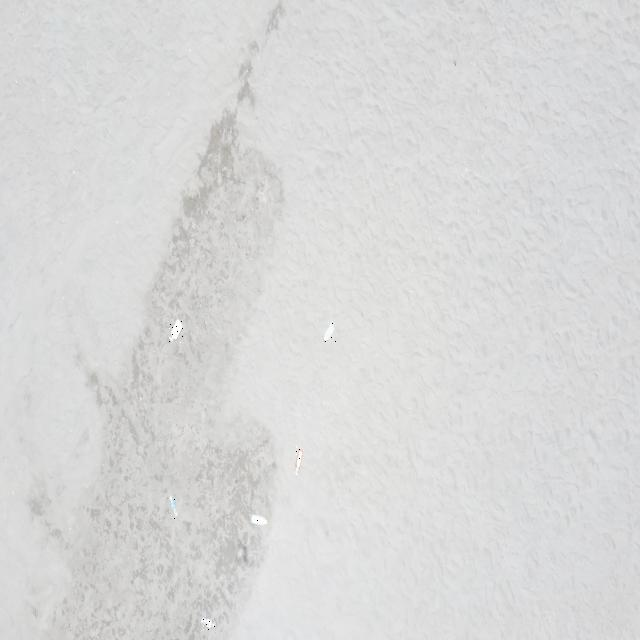Garbage: (168, 320, 180, 340), (200, 616, 215, 628), (168, 495, 176, 517), (252, 513, 267, 524), (324, 322, 333, 340), (296, 448, 301, 473)
